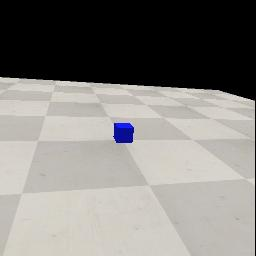box: (113, 123, 134, 143)
